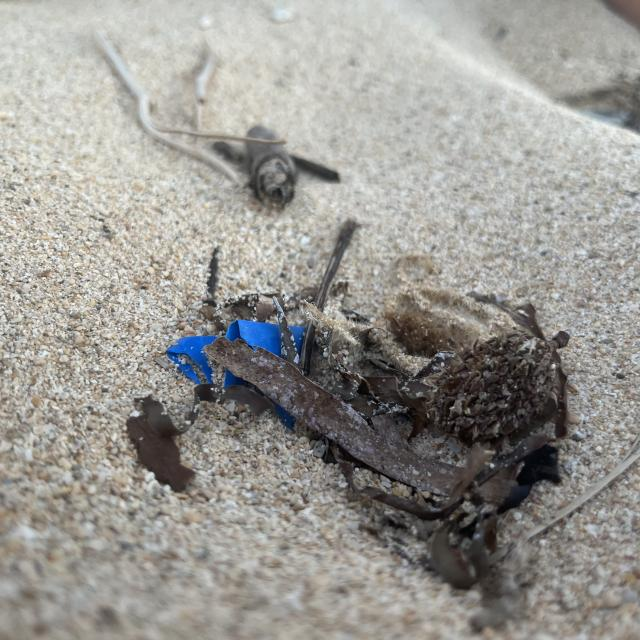seaweed: (193, 262, 590, 595)
trash: (168, 294, 312, 436)
